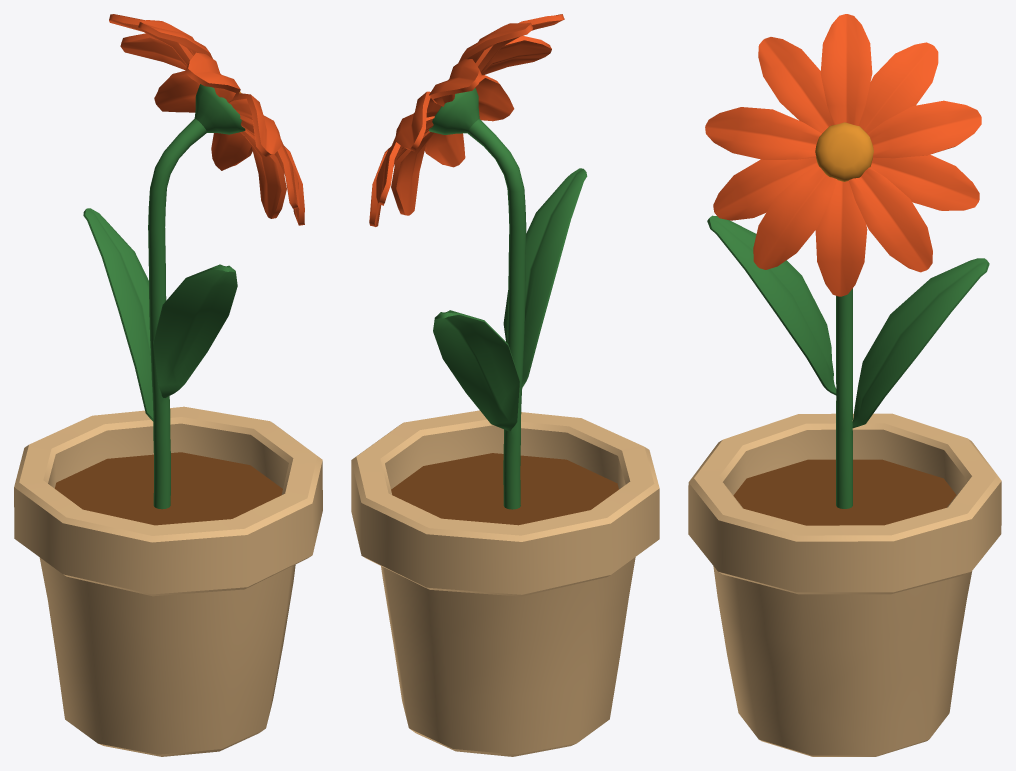
File: Plant_5.fbx
3 renders of one model, left to right at view 1: azimuth 30°, elevation 25°; view 2: azimuth 150°, elevation 25°; view 3: azimuth 270°, elevation 25°, orthographic.
Visible parts, largest first — view 1: Plant_5; view 2: Plant_5; view 3: Plant_5.
Part boxes in pixels (x1,y1,x2,y2): Plant_5: [14, 14, 322, 756]; Plant_5: [351, 14, 659, 756]; Plant_5: [688, 14, 1001, 756].
Size of the model in its own units: 0.1916 by 0.4908 by 0.2017.
